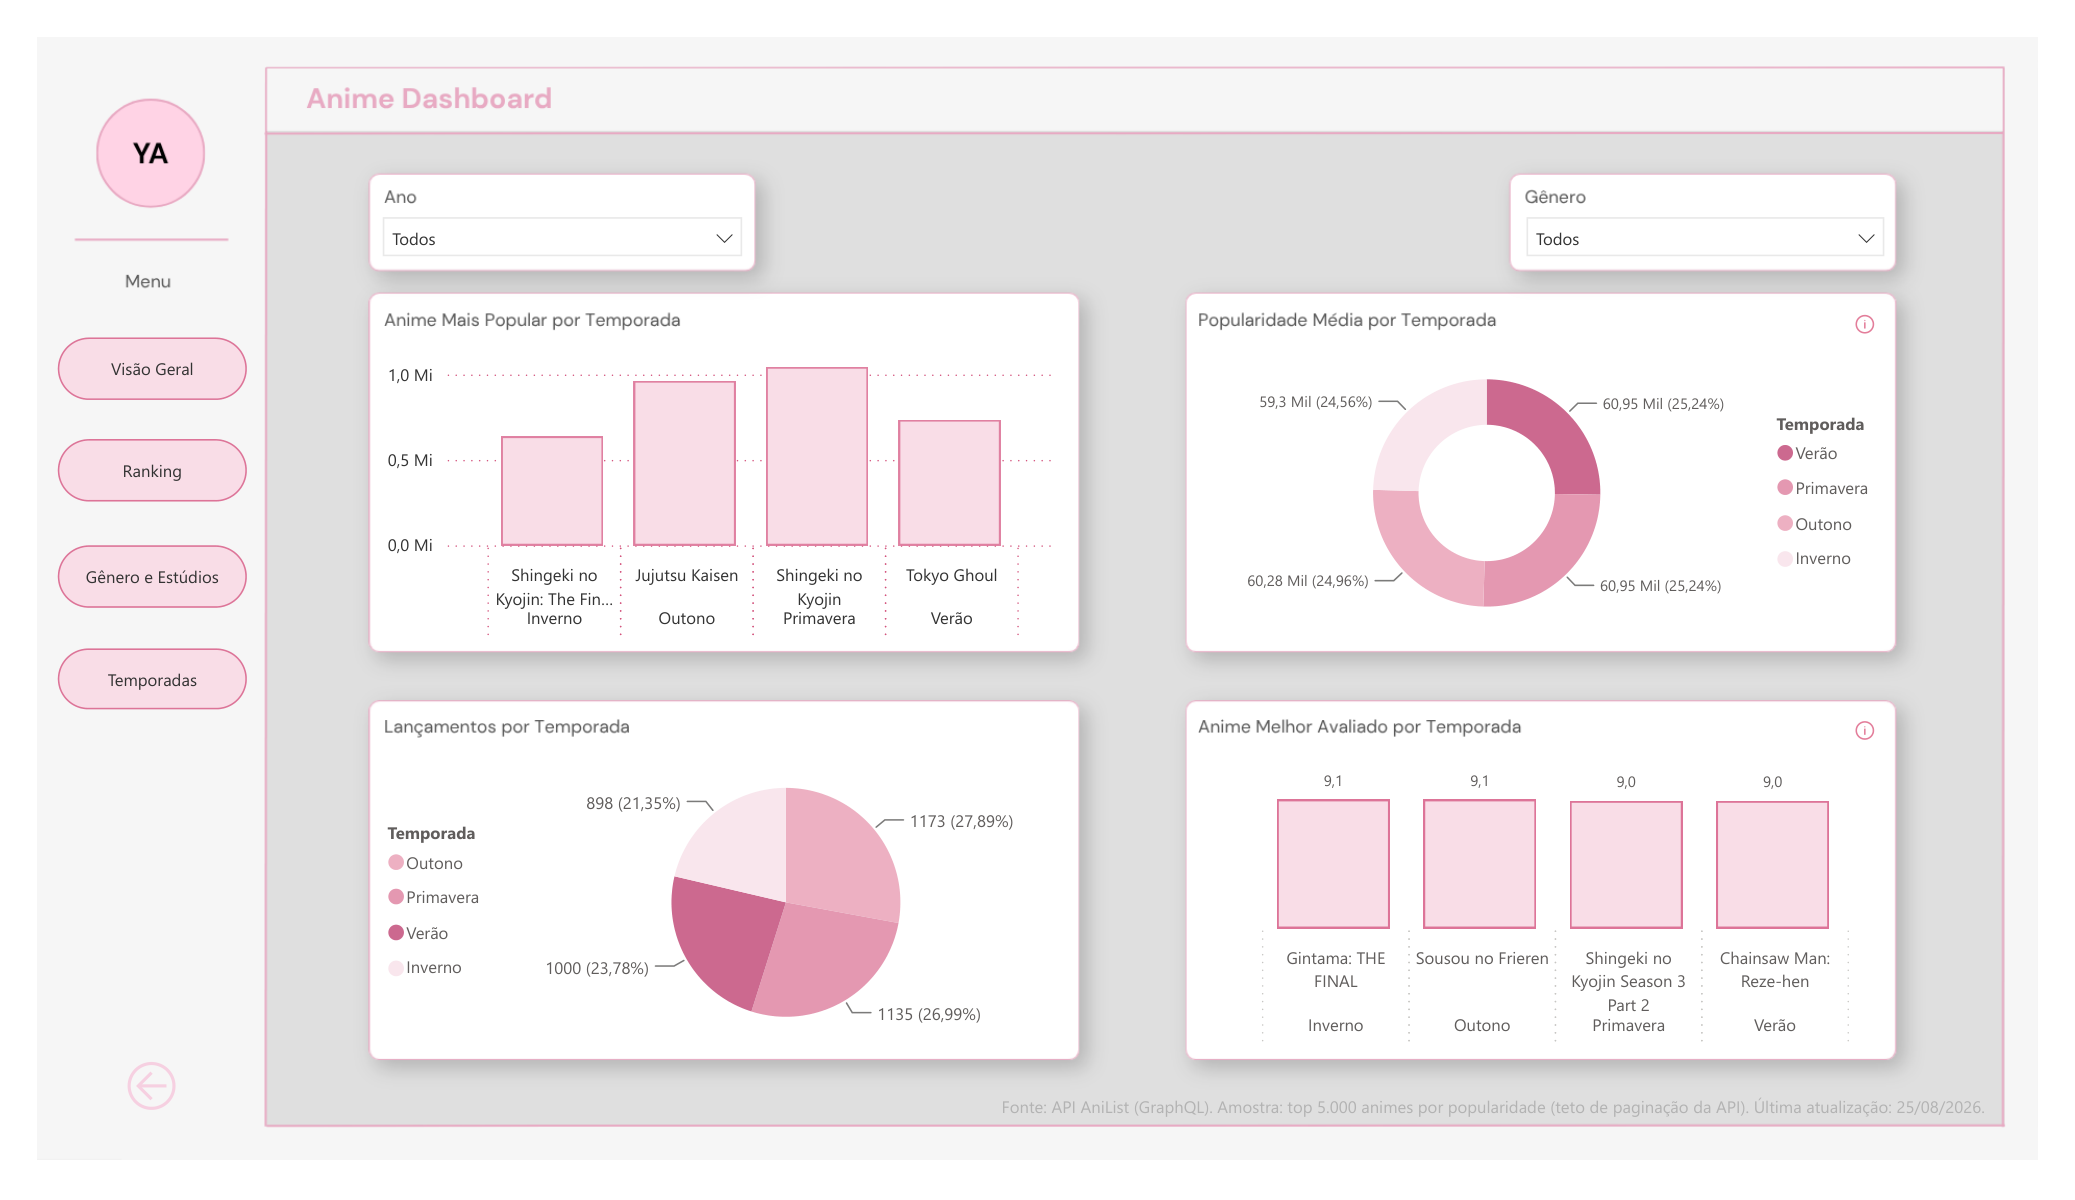

The page's visual inventory and layout, read from the dashboard file:
{"tool":"powerbi","page":{"name":"Temporadas","canvas":[1280,720],"ordinal":3},"visuals":[{"type":"shape","box":[12.8,192,121.2,39.5],"z":0},{"type":"shape","box":[12.8,257,121.2,39.5],"z":1000},{"type":"shape","box":[12.8,325.3,121.2,39.5],"z":2000},{"type":"shape","box":[12.8,391,121.2,39.5],"z":3000},{"type":"slicer","title":"Ano","fields":{"Values":["dim_anime.ano_texto"]},"box":[211.1,104.9,249.9,34.8],"z":4000},{"type":"slicer","fields":{"Values":["dim_genero.nome_genero_pt"]},"box":[942.7,104.9,249.2,45.9],"z":5000},{"type":"pieChart","fields":{"Y":["Medidas.Total de Animes"],"Category":["dim_anime.temporada_pt"]},"box":[219.2,453.5,445.6,200.2],"z":6000},{"type":"donutChart","fields":{"Y":["Medidas.Popularidade Media (estudio)"],"Category":["dim_anime.temporada_pt"]},"box":[736.8,192.2,455.1,198.5],"z":7000},{"type":"clusteredColumnChart","fields":{"Category":["dim_anime.temporada_pt","dim_anime.titulo"],"Y":["Medidas.Total de Membros"]},"box":[219.1,197.1,438.7,196.5],"z":8000},{"type":"clusteredColumnChart","fields":{"Category":["dim_anime.temporada_pt","dim_anime.titulo"],"Y":["Medidas.Nota Media Confiavel"]},"box":[736.8,453.7,455.1,199.9],"z":9000},{"type":"actionButton","box":[1158.7,169.7,21.6,27.2],"z":10000},{"type":"actionButton","box":[1158.7,429.9,21.6,27.2],"z":11000},{"type":"textbox","box":[612.1,671.4,644.2,26.5],"z":12000},{"type":"actionButton","box":[51.9,648.6,42.1,44.5],"z":13000}]}

Visuals, with their boxes on the page's 1280x720 design canvas (x1, y1, x2, y2). These are canvas units, not pixel positions in the 2075x1200 screenshot, which may show the page scaled, cropped or inside an application window:
shape: [x1=13, y1=192, x2=134, y2=232]
shape: [x1=13, y1=257, x2=134, y2=296]
shape: [x1=13, y1=325, x2=134, y2=365]
shape: [x1=13, y1=391, x2=134, y2=430]
"Ano" slicer: [x1=211, y1=105, x2=461, y2=140]
slicer - dim_genero.nome_genero_pt: [x1=943, y1=105, x2=1192, y2=151]
pieChart - Medidas.Total de Animes x dim_anime.temporada_pt: [x1=219, y1=454, x2=665, y2=654]
donutChart - Medidas.Popularidade Media (estudio) x dim_anime.temporada_pt: [x1=737, y1=192, x2=1192, y2=391]
clusteredColumnChart - dim_anime.temporada_pt x dim_anime.titulo: [x1=219, y1=197, x2=658, y2=394]
clusteredColumnChart - dim_anime.temporada_pt x dim_anime.titulo: [x1=737, y1=454, x2=1192, y2=654]
actionButton: [x1=1159, y1=170, x2=1180, y2=197]
actionButton: [x1=1159, y1=430, x2=1180, y2=457]
textbox: [x1=612, y1=671, x2=1256, y2=698]
actionButton: [x1=52, y1=649, x2=94, y2=693]
